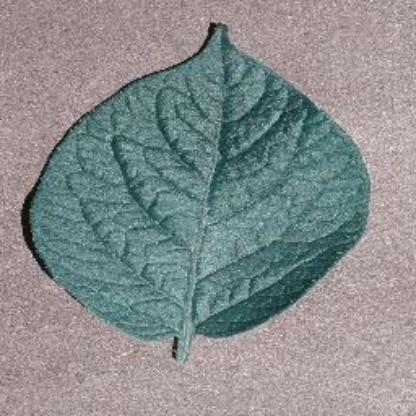Healthy-plant: (20, 18, 384, 368)
